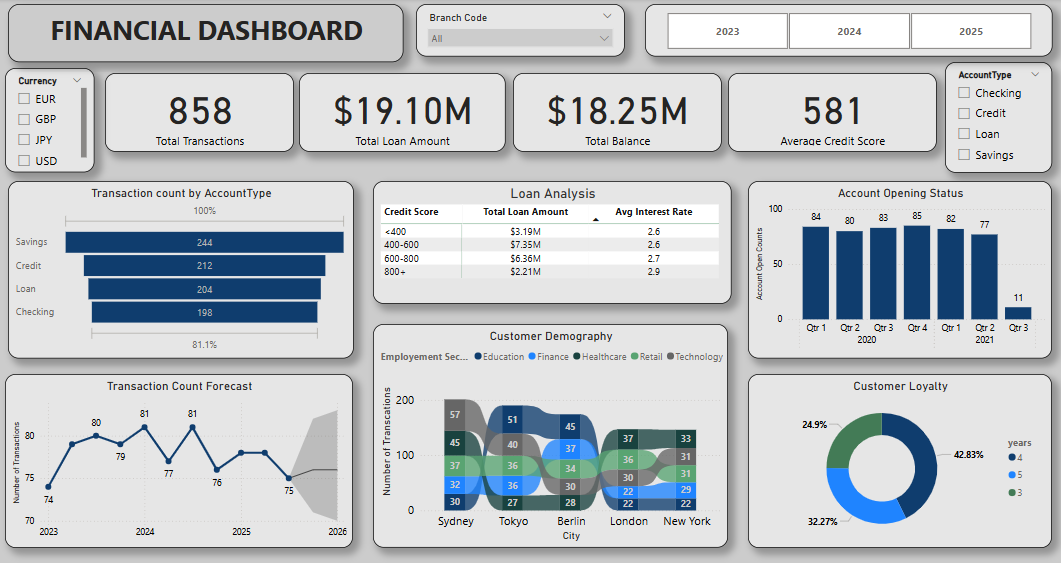

The dashboard page shown, as its layout file describes it:
{"tool":"powerbi","page":{"name":"DASHBOARD","canvas":[1500,800],"ordinal":0},"visuals":[{"type":"card","fields":{"Values":["Count(All Customer Transction.TransactionID)"]},"box":[151.4,104.3,265.7,111.4],"z":0},{"type":"card","fields":{"Values":["Sum(All Customer Transction.Loan Amount(USD))"]},"box":[425.7,104.3,291.4,111.4],"z":1000},{"type":"card","fields":{"Values":["Sum(All Customer Transction.Balance(USD))"]},"box":[727.1,104.3,294.3,111.4],"z":2000},{"type":"card","fields":{"Values":["Avg(All Customer Transction.CreditScore)"]},"box":[1030,104.3,294.3,111.4],"z":3000},{"type":"slicer","fields":{"Values":["All Customer Transction.AccountType"]},"box":[1335.7,88.6,151.4,155.7],"z":4000},{"type":"slicer","fields":{"Values":["All Customer Transction.Currency"]},"box":[11.4,97.1,125.7,147.1],"z":5000},{"type":"slicer","fields":{"Values":["All Customer Transction.BranchCode"]},"box":[590,7.1,294.3,74.3],"z":6000},{"type":"slicer","fields":{"Values":["All Customer Transction.TransactionDate.Variation.Date Hierarchy.Year"]},"box":[912.9,7.1,574.3,74.3],"z":7000},{"type":"lineChart","title":"Transaction Count Forecast","fields":{"Category":["All Customer Transction.TransactionDate.Variation.Date Hierarchy.Year","All Customer Transction.TransactionDate.Variation.Date Hierarchy.Quarter"],"Y":["CountNonNull(All Customer Transction.TransactionID)"]},"box":[11.7,528.3,490,245],"z":8000},{"type":"textbox","box":[15,6.7,556.7,81.7],"z":9000},{"type":"pivotTable","title":"Loan Analysis","fields":{"Rows":["All Customer Transction.Credit Score Range"],"Values":["Sum(All Customer Transction.Loan Amount(USD))","Avg(All Customer Transction.InterestRate)"]},"box":[530,256.7,505,173.3],"z":10000},{"type":"clusteredColumnChart","title":"Account Opening Status","fields":{"Category":["All Customer Transction.OpeningDate.Variation.Date Hierarchy.Year","All Customer Transction.OpeningDate.Variation.Date Hierarchy.Quarter"],"Y":["Count(All Customer Transction.AccountNumber)"]},"box":[1058.3,256.7,428.3,250],"z":11000},{"type":"ribbonChart","title":"Customer Demography","fields":{"Category":["All Customer Transction.City"],"Y":["CountNonNull(All Customer Transction.TransactionID)"],"Series":["All Customer Transction.Employement Sector"]},"box":[530,458.3,500,315],"z":12000},{"type":"funnel","title":"Transaction count by AccountType","fields":{"Category":["All Customer Transction.AccountType"],"Y":["CountNonNull(All Customer Transction.TransactionID)"]},"box":[15,256.7,486.7,250],"z":13000},{"type":"donutChart","title":"Customer Loyalty","fields":{"Y":["Count(All Customer Transction.AccountNumber)"],"Category":["All Customer Transction.Customer(year)"]},"box":[1058.3,528.3,428.3,245],"z":14000}]}

Visuals, with their boxes in screenshot pixels (x1, y1, x2, y2), scaled from the page's 1500x800 canvas onto the 1061x563 screenshot:
card - Count(All Customer Transction.TransactionID): [107,73,295,152]
card - Sum(All Customer Transction.Loan Amount(USD)): [301,73,507,152]
card - Sum(All Customer Transction.Balance(USD)): [514,73,722,152]
card - Avg(All Customer Transction.CreditScore): [729,73,937,152]
slicer - All Customer Transction.AccountType: [945,62,1052,172]
slicer - All Customer Transction.Currency: [8,68,97,172]
slicer - All Customer Transction.BranchCode: [417,5,625,57]
slicer - All Customer Transction.TransactionDate.Variation.Date Hierarchy.Year: [646,5,1052,57]
"Transaction Count Forecast" lineChart: [8,372,355,544]
textbox: [11,5,404,62]
"Loan Analysis" pivotTable: [375,181,732,303]
"Account Opening Status" clusteredColumnChart: [749,181,1052,357]
"Customer Demography" ribbonChart: [375,323,729,544]
"Transaction count by AccountType" funnel: [11,181,355,357]
"Customer Loyalty" donutChart: [749,372,1052,544]
